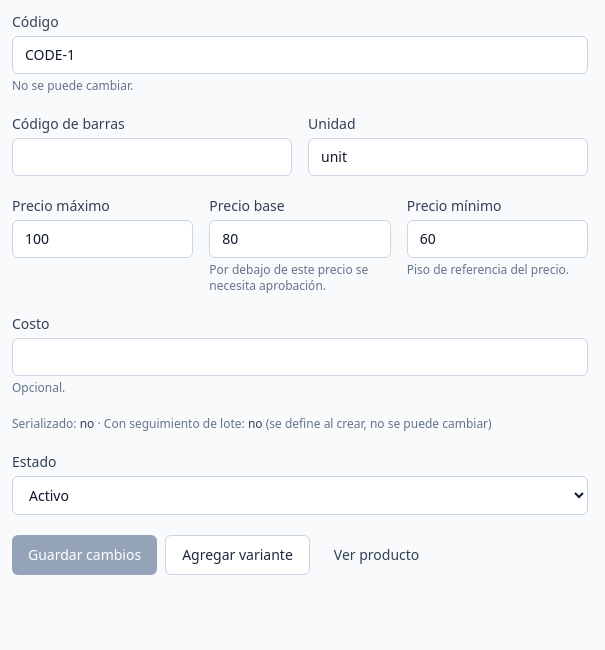
Test: VariantForm — edit › Código is read-only, and PATCH sends only changed fields
Expected: the button "Guardar cambios" is disabled, [12,535,157,575]
Select "Desactivado" in the dropdown labelled "Estado" at (300, 496), box [12,476,588,515]
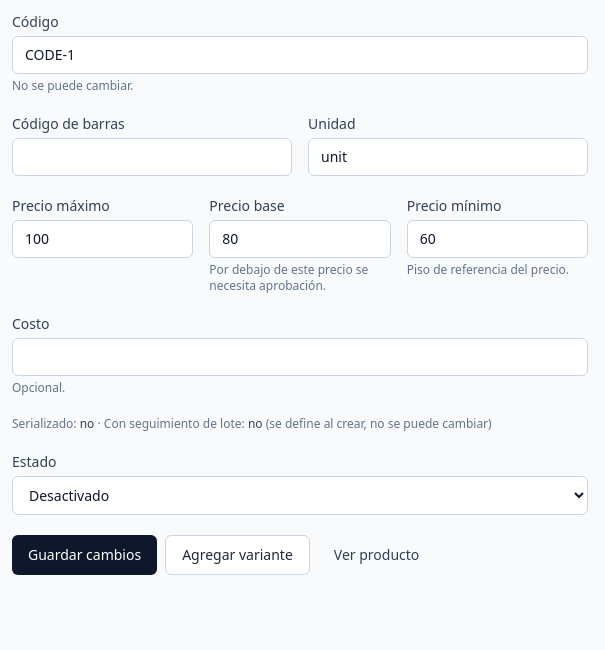
Now the button "Guardar cambios" is enabled
Click the button "Guardar cambios" at (85, 555), box [12,535,157,575]
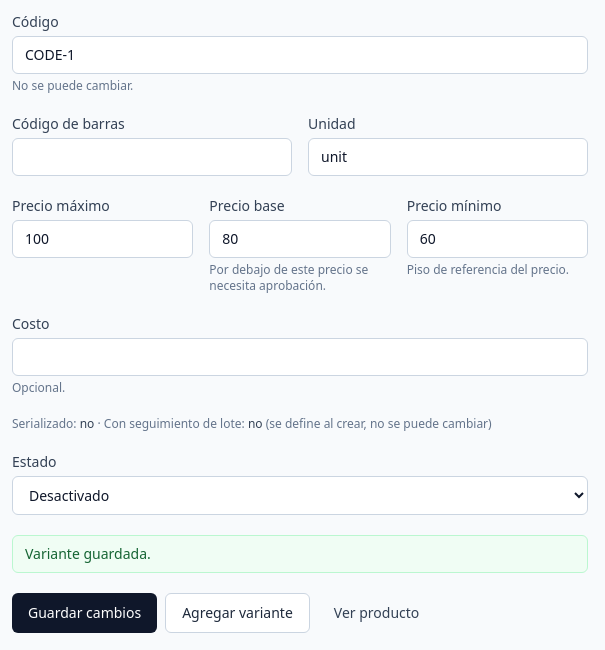
Now the text "Variante guardada." is shown, box [25,544,151,563]
